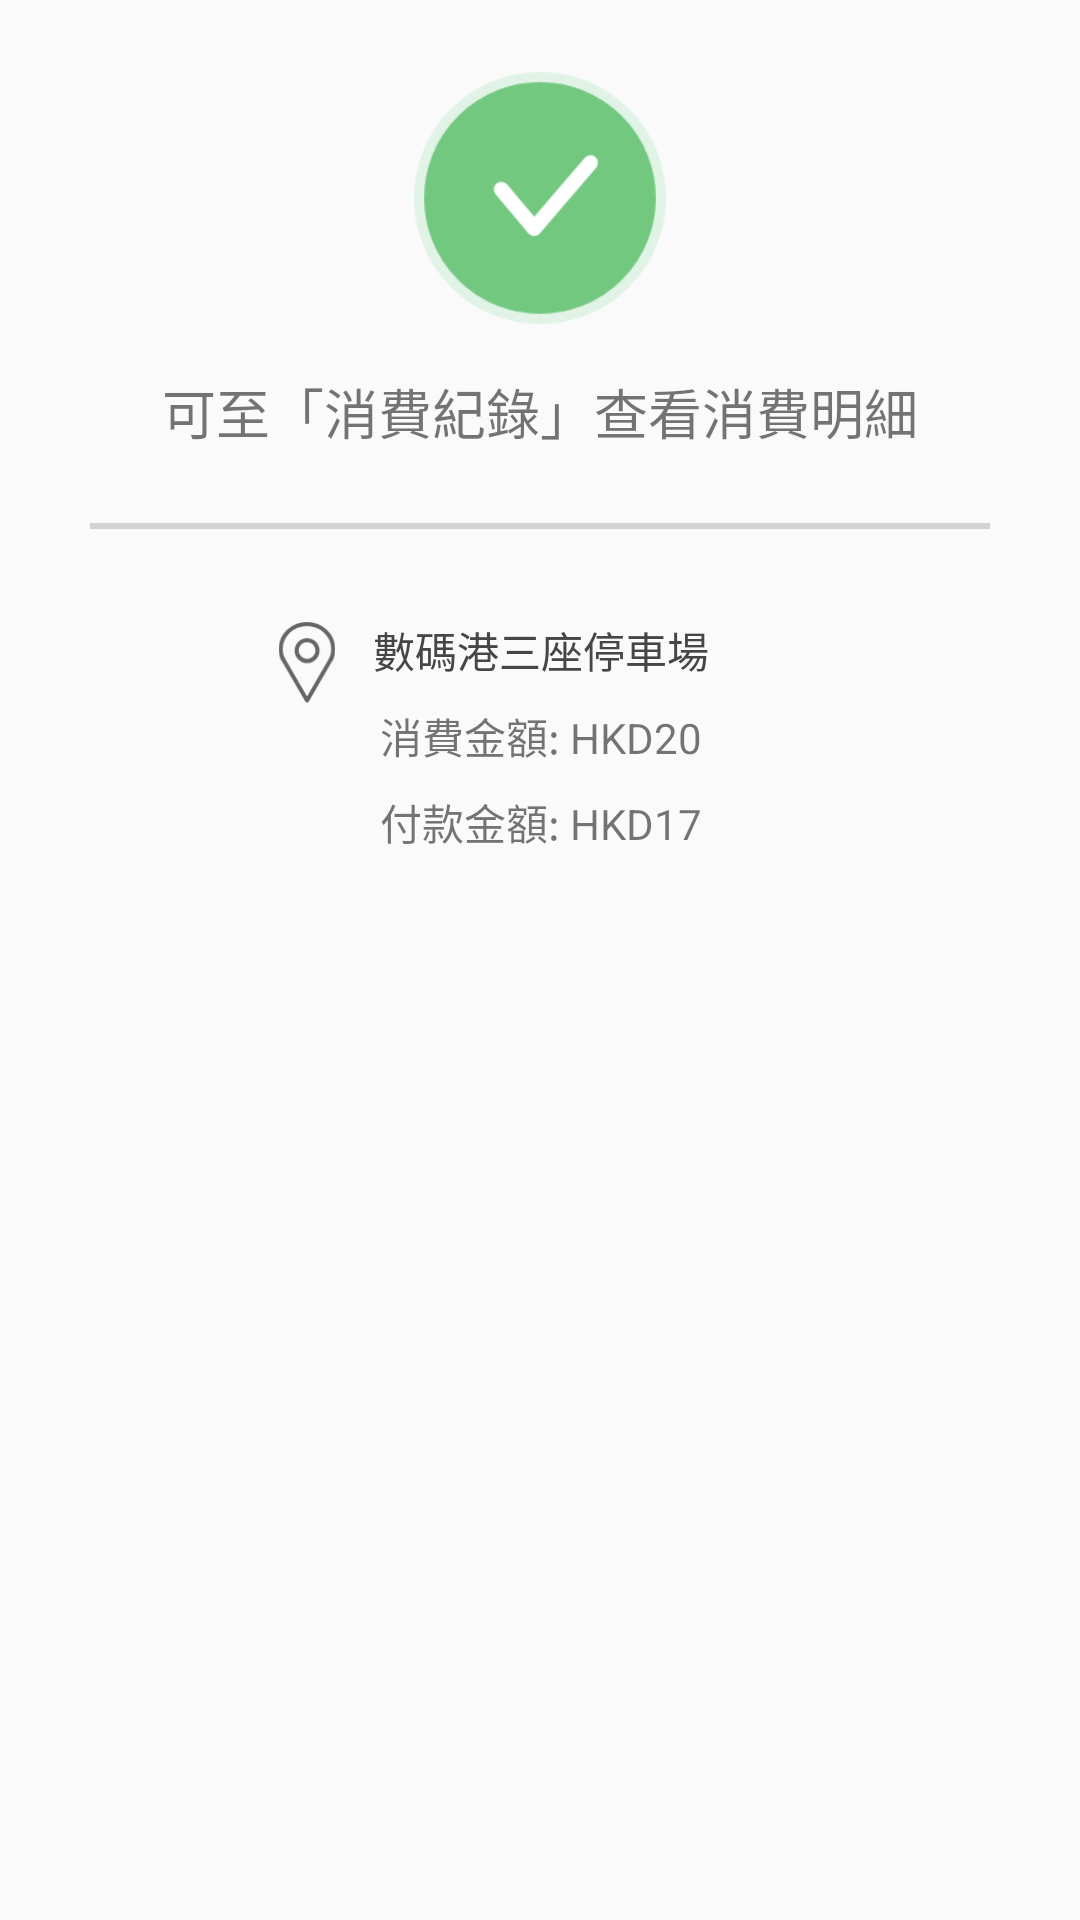

Icon click points for this 1080w x 1920h phone screenshot, format [x,y]:
alert ok: [540,198]
location: [307,662]
